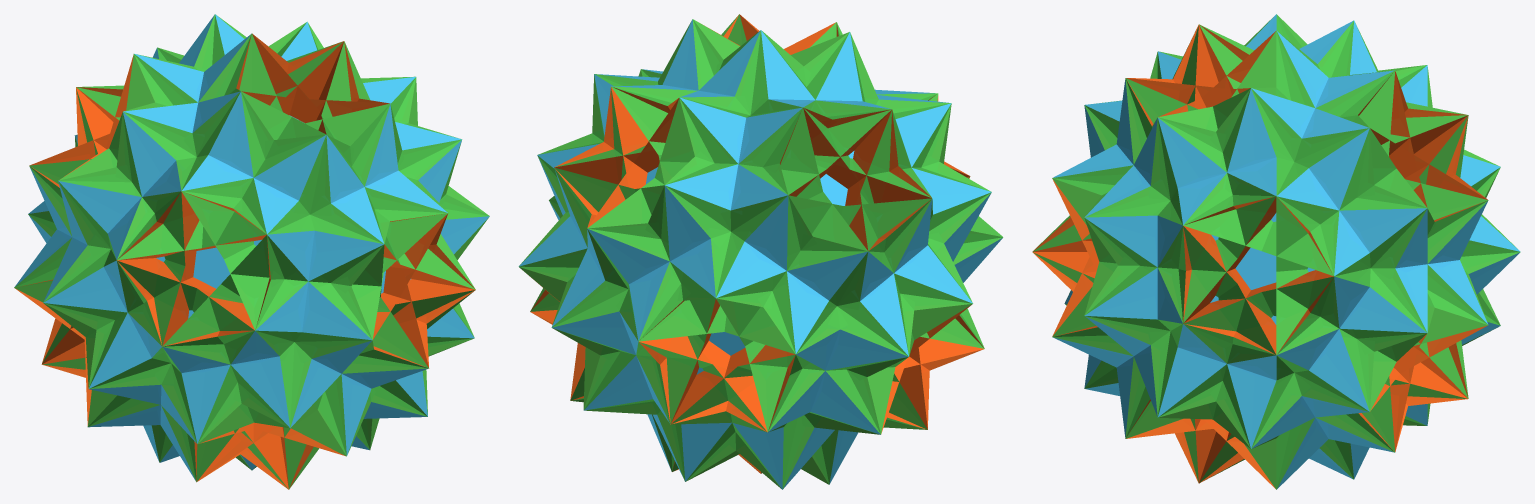
File: great_disnub_dirhombidodecahedron.obj
The picture shows the model from 3 angles, left to right: view 1: azimuth 30°, elevation 25°; view 2: azimuth 150°, elevation 25°; view 3: azimuth 270°, elevation 25°; orthographic projection.
Size of the model in its own units: 2.83 by 2.83 by 2.83.
